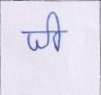i_matra: (48, 12, 64, 50)
